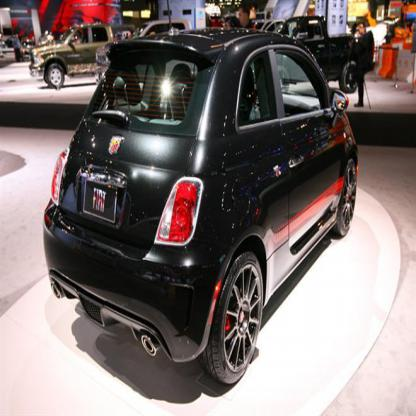Vehicle: (44, 1, 359, 391)
